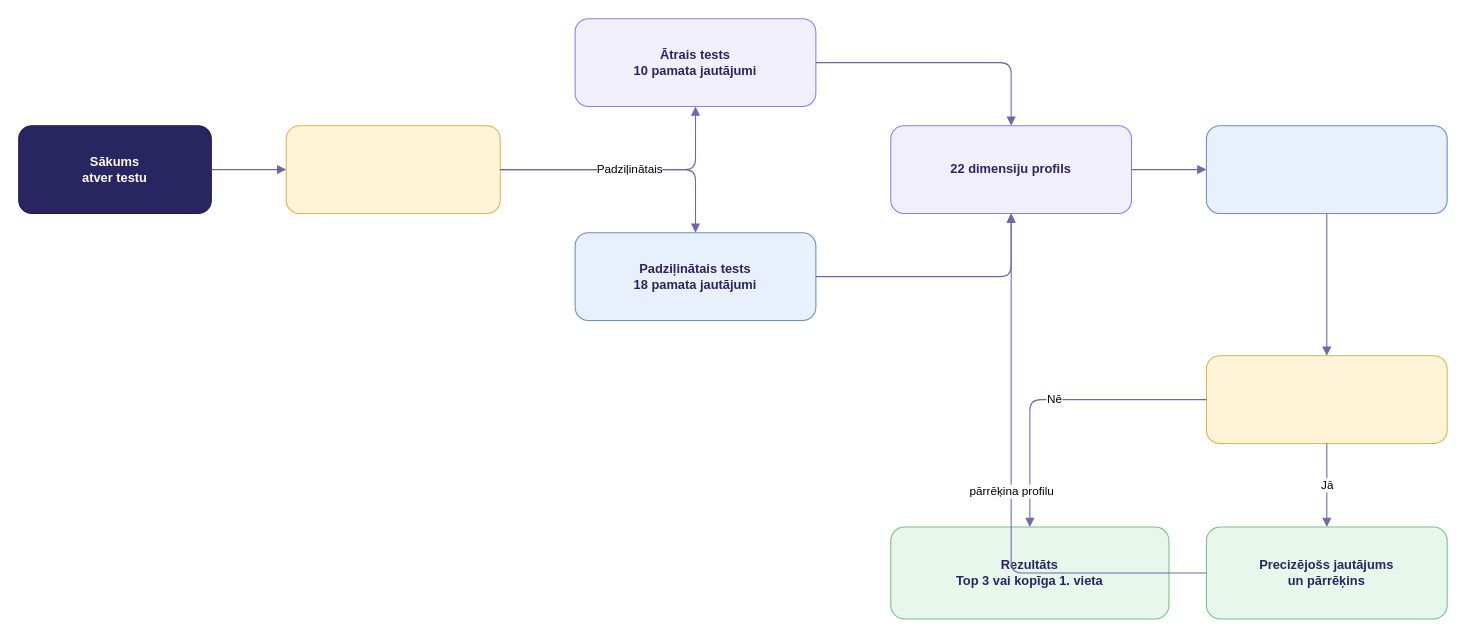
Image size: 1466x638. Some labels were removed from this diagram. Here are the shapes that lost their labels. From the top down, the box of each, then its label:
(285, 125, 500, 213): Režīma izvēle ātrais vai padziļinātais
(1205, 125, 1447, 213): 13 profesiju profili un salīdzinājums
(1205, 355, 1447, 444): Vajag precizēt? tuvs rezultāts vai maz datu
